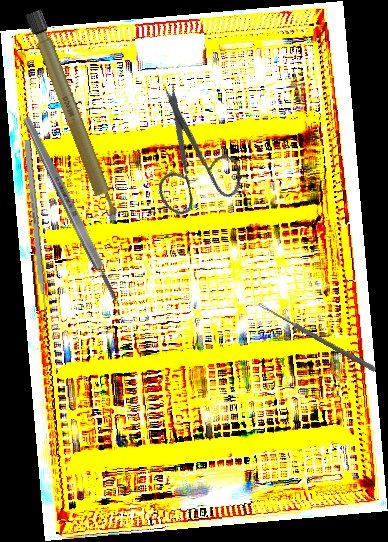Iris Scissors: (106, 78, 268, 236)
Pusher: (23, 139, 51, 334)
Scalpel Handle: (24, 9, 122, 227), (20, 113, 122, 305)
Surgical Spoon: (256, 301, 378, 373)
